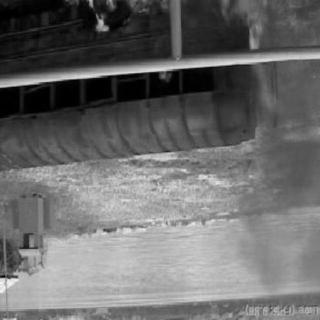Fire: (53, 4, 320, 146)
